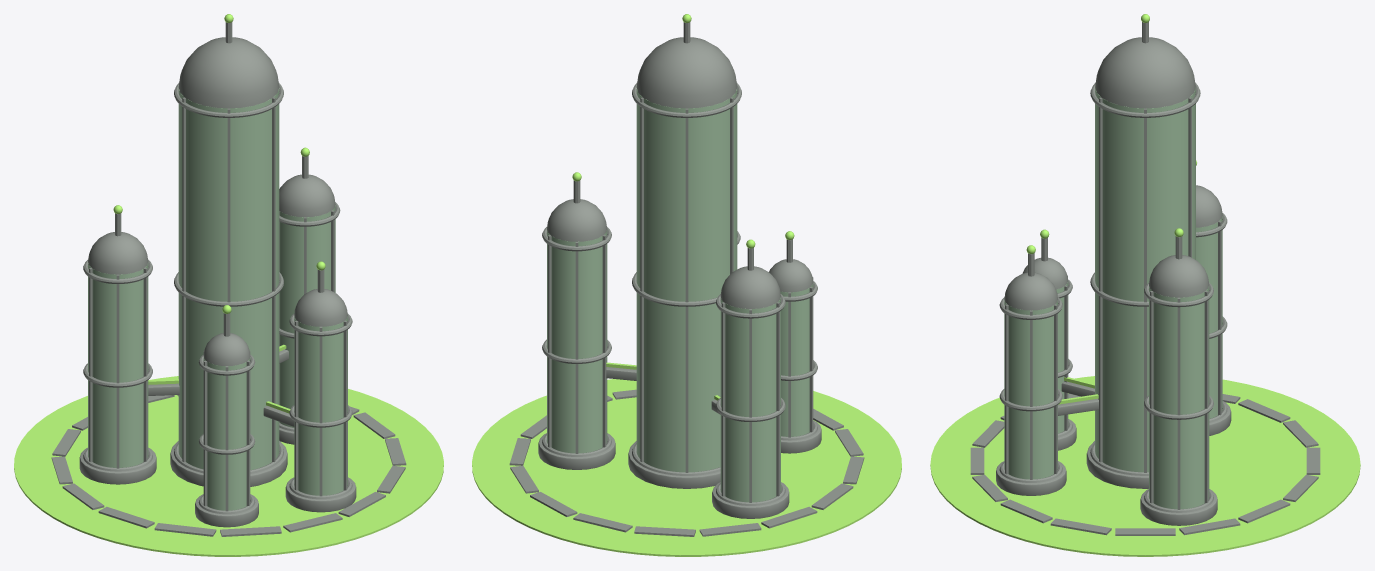
Rendered from ReactorVerde.fbx.
3 renders of one model, left to right at view 1: azimuth 30°, elevation 25°; view 2: azimuth 150°, elevation 25°; view 3: azimuth 270°, elevation 25°, orthographic.
Parts seen in each view (by area): view 1: ReactorVerde_Cristal, ReactorVerde_Metal, ReactorVerde_Luz; view 2: ReactorVerde_Cristal, ReactorVerde_Metal, ReactorVerde_Luz; view 3: ReactorVerde_Cristal, ReactorVerde_Metal, ReactorVerde_Luz.
Part boxes in pixels (x1=…): ReactorVerde_Cristal: x1=88, y1=88, x2=347, y2=510; ReactorVerde_Metal: x1=51, y1=22, x2=406, y2=536; ReactorVerde_Luz: x1=14, y1=14, x2=443, y2=556; ReactorVerde_Cristal: x1=547, y1=88, x2=813, y2=502; ReactorVerde_Metal: x1=509, y1=22, x2=864, y2=536; ReactorVerde_Luz: x1=472, y1=14, x2=901, y2=556; ReactorVerde_Cristal: x1=1004, y1=87, x2=1222, y2=509; ReactorVerde_Metal: x1=970, y1=22, x2=1320, y2=535; ReactorVerde_Luz: x1=930, y1=14, x2=1360, y2=556.
Bounding box in the file's own units: 12800 × 14830 × 12800.
